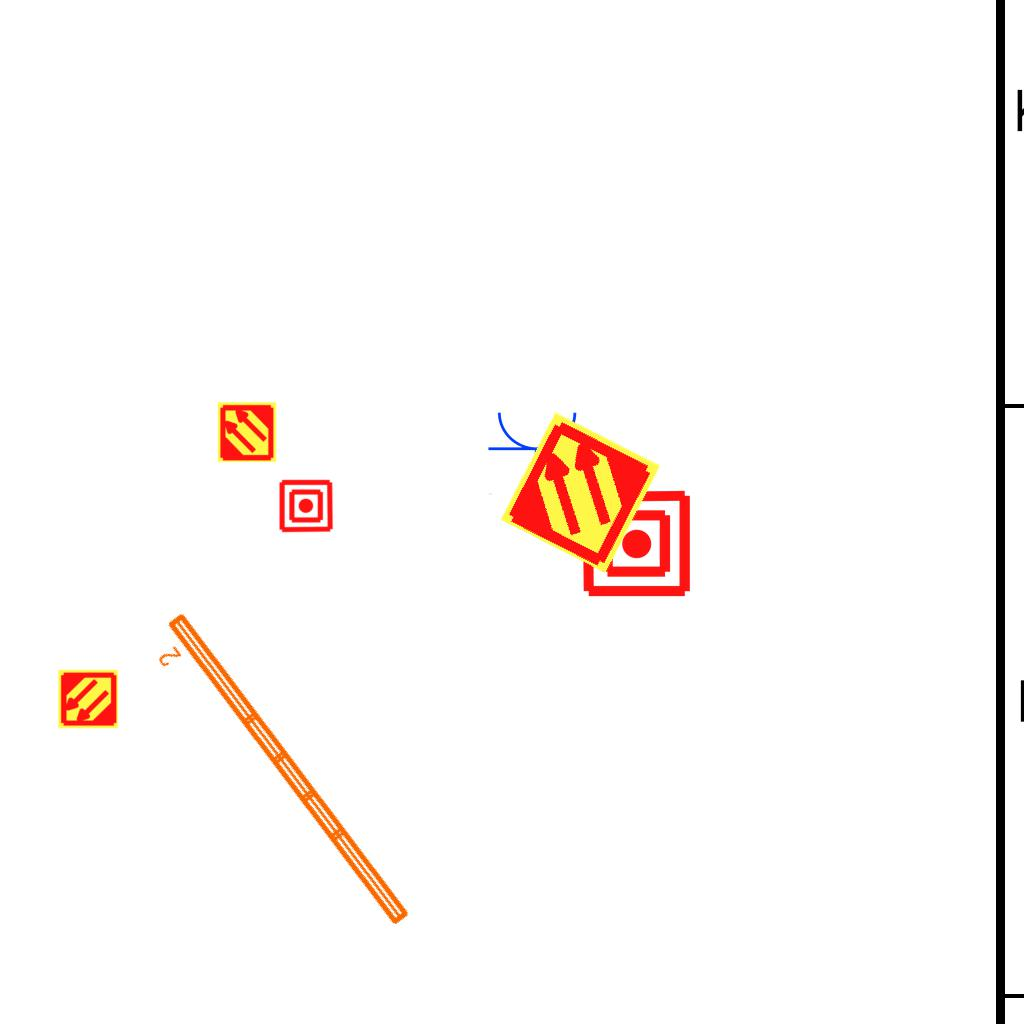ASR_Ansaugrauchmelder: (496, 408, 665, 577), (216, 401, 278, 463), (57, 668, 119, 730)
Ambulanz_Pendelleuchte_LED: (139, 605, 418, 949)
NAM-Nichtautomatischer_Melder: (580, 487, 693, 600), (278, 478, 334, 534)
Schukosteckdose_einfach: (487, 408, 587, 495)
